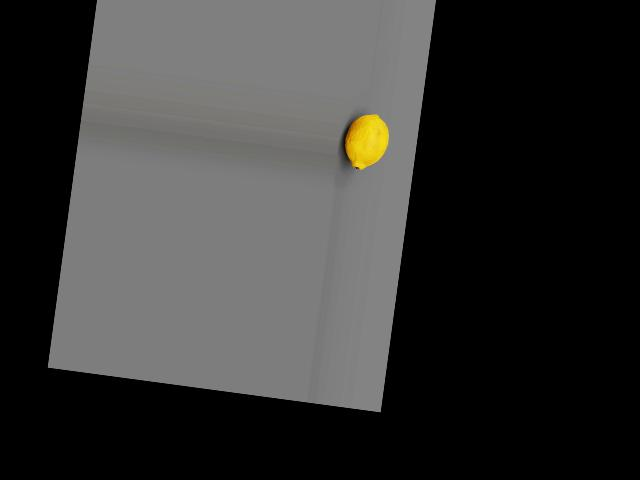lemon: (342, 109, 394, 173)
